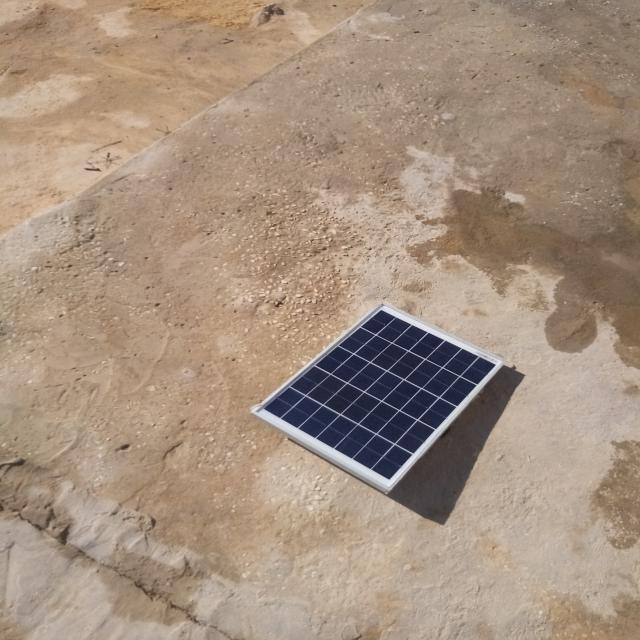no faulty: (252, 303, 505, 490)
